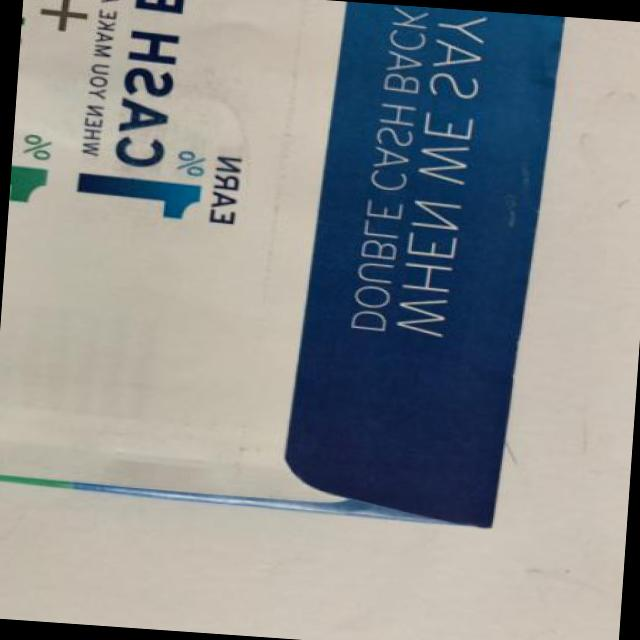paper: (0, 0, 555, 543)
